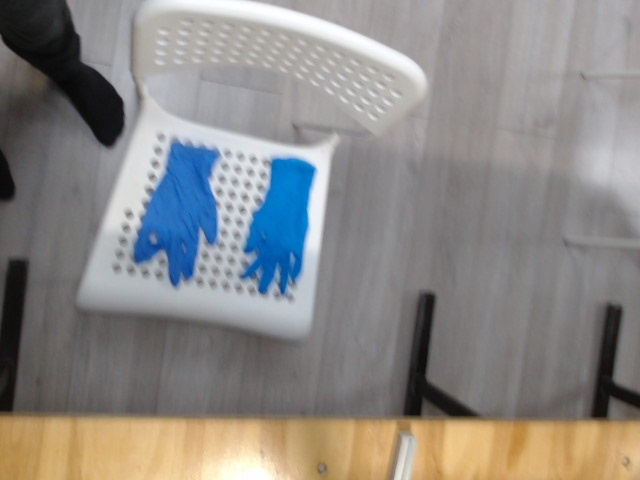medical_glove: (134, 143, 222, 282), (242, 158, 316, 293)
